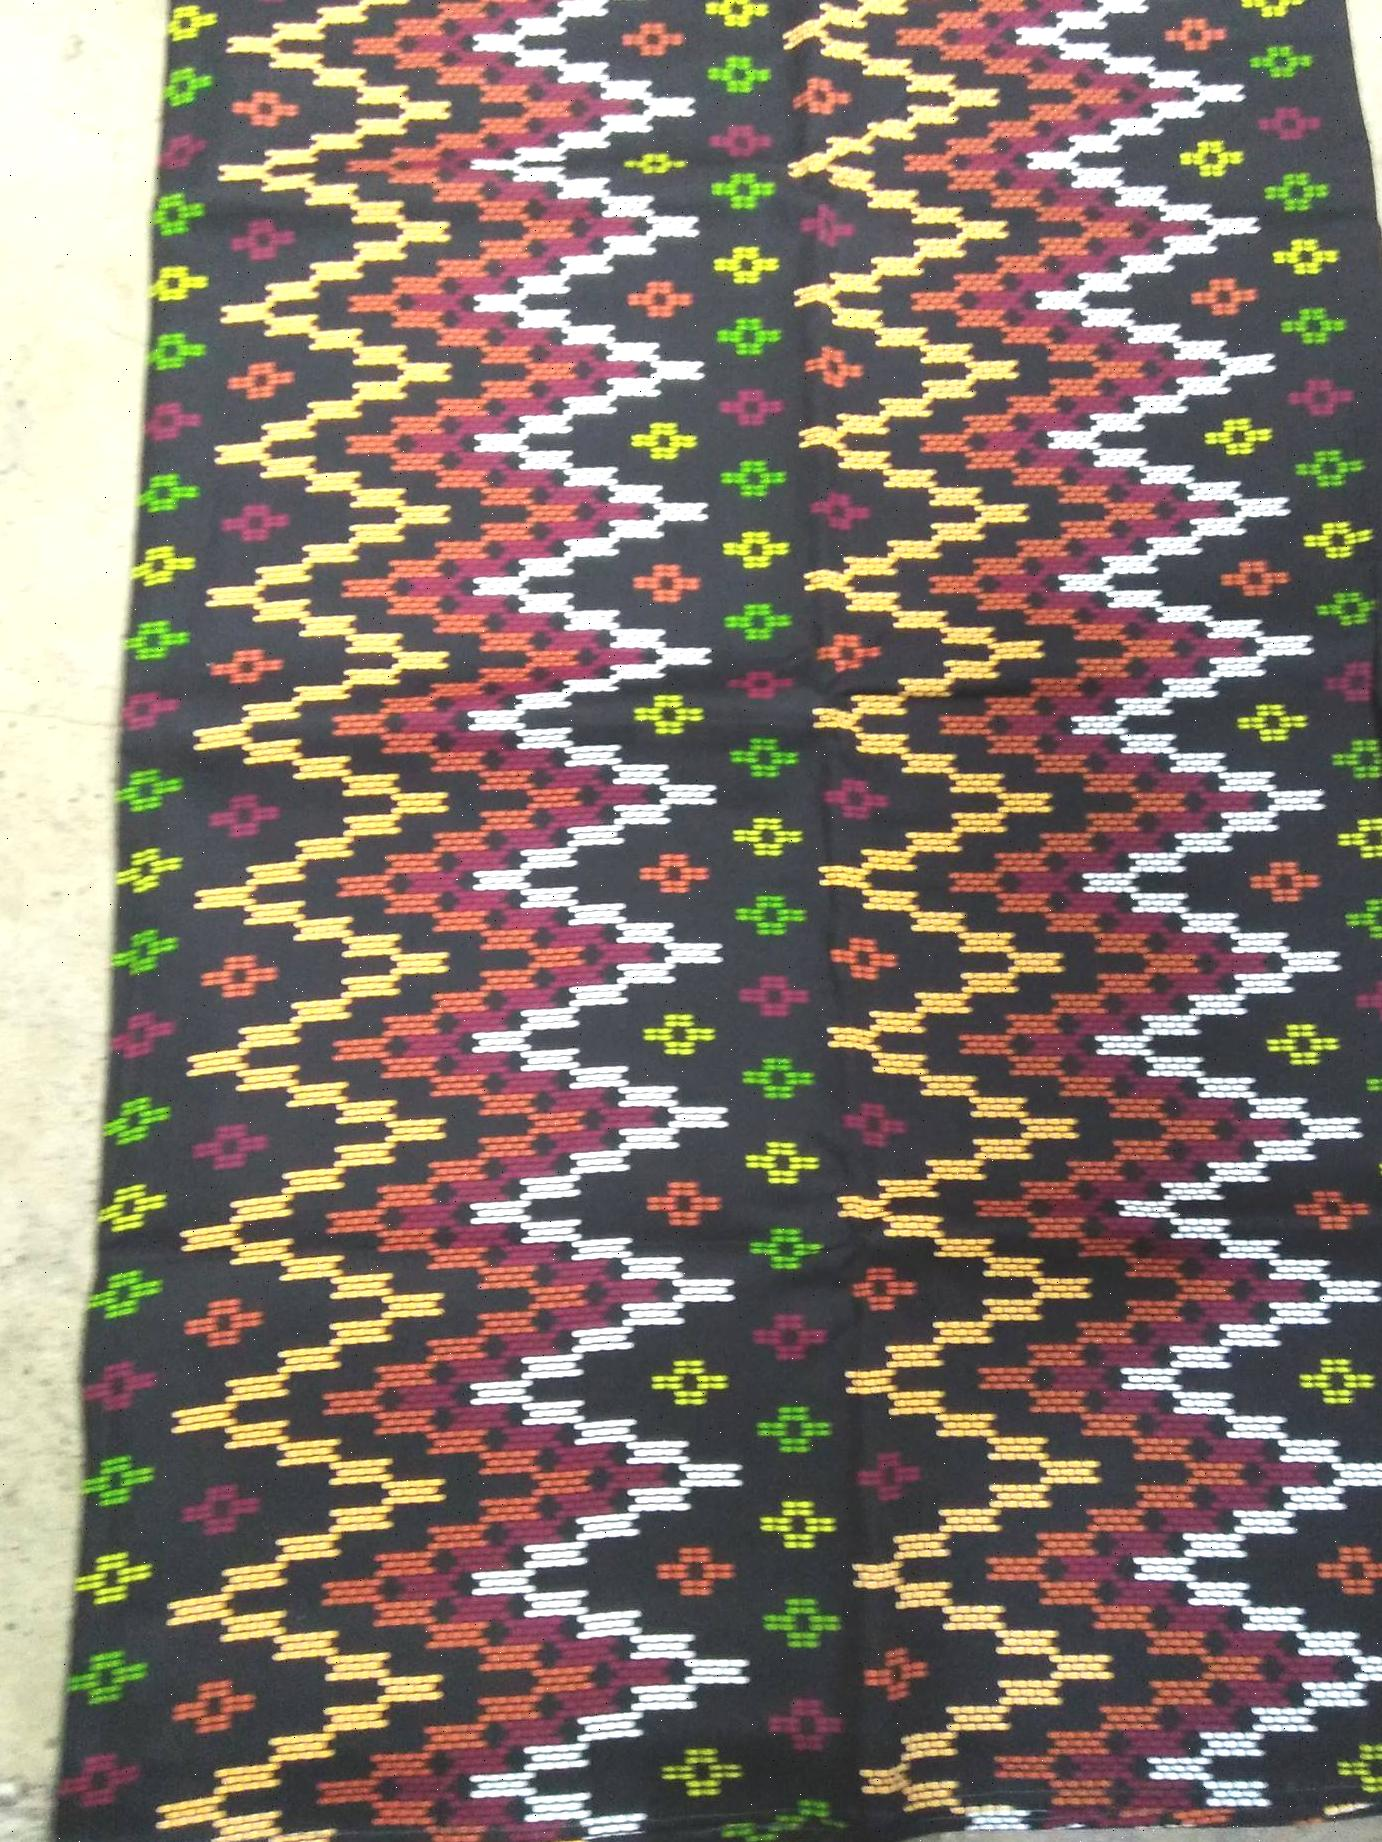malong: (33, 0, 1382, 1842)
